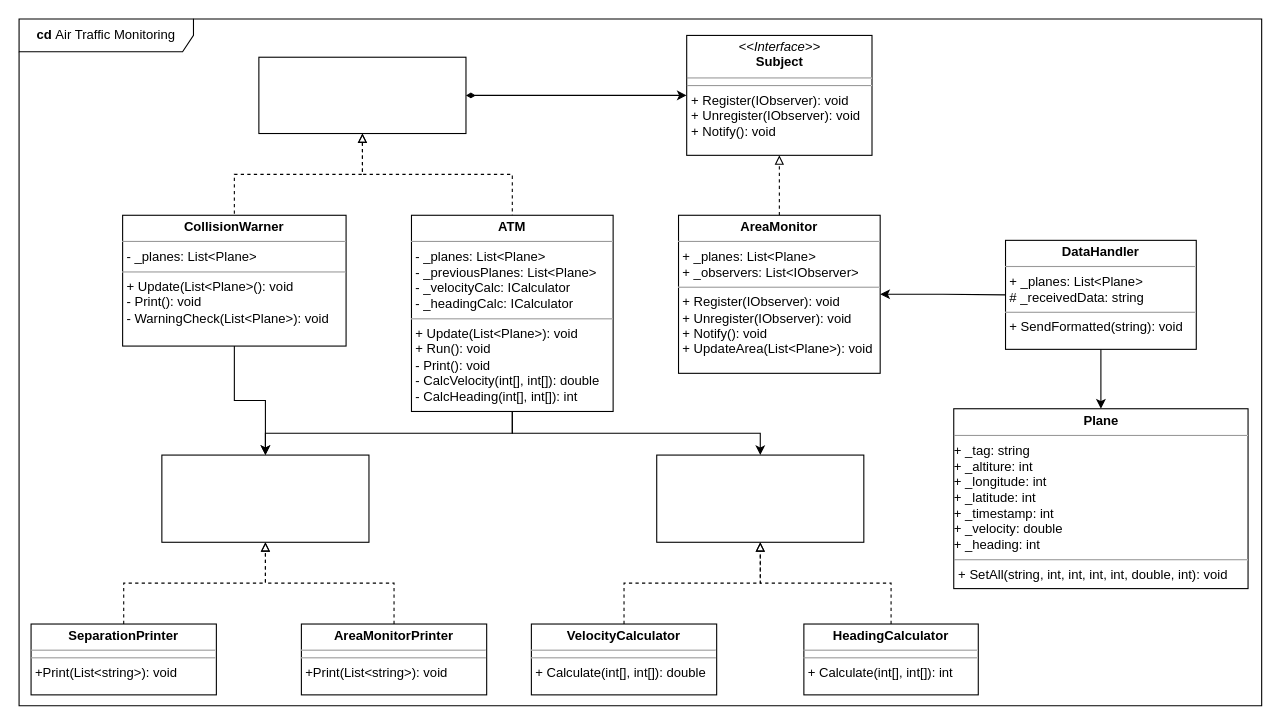
This 1281x725 diagram has some shape labels left out. Here are the shapes that lost their labels. From the top down, the centre of each, then its label:
At (x=362, y=95): "<<Interface>> IObserver + Update():".
At (x=265, y=498): "<<Interface>> IPrinter + Print(List<string>): void".
At (x=760, y=498): "<<Interface>> ICalculator + Calculate(int[], int[]): var".
